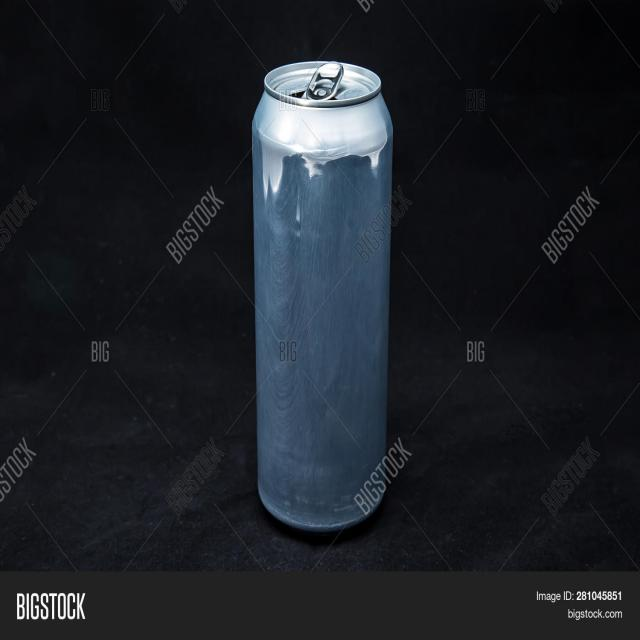non-organic waste: (244, 44, 398, 532)
